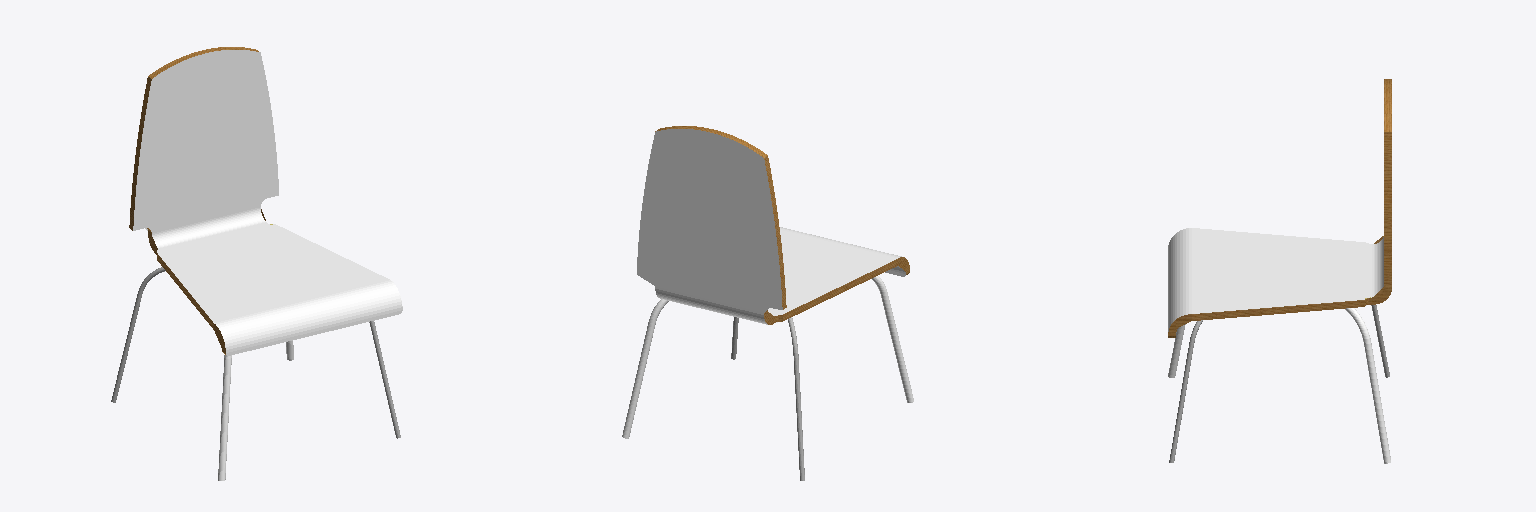
3 renders of one model, left to right at view 1: azimuth 30°, elevation 25°; view 2: azimuth 150°, elevation 25°; view 3: azimuth 270°, elevation 25°, orthographic.
Visible parts, largest first — view 1: Mesh3 White_chair1 Model, Mesh2 White_chair1 Model, Mesh1 White_chair1 Model; view 2: Mesh3 White_chair1 Model, Mesh1 White_chair1 Model, Mesh2 White_chair1 Model; view 3: Mesh3 White_chair1 Model, Mesh1 White_chair1 Model, Mesh2 White_chair1 Model.
Boxes of the visible parts, x1,y1,x2,y2 form: Mesh3 White_chair1 Model: [129, 47, 402, 355]; Mesh2 White_chair1 Model: [111, 267, 400, 438]; Mesh1 White_chair1 Model: [218, 341, 293, 480]; Mesh3 White_chair1 Model: [637, 126, 909, 324]; Mesh1 White_chair1 Model: [622, 276, 913, 438]; Mesh2 White_chair1 Model: [731, 317, 804, 480]; Mesh3 White_chair1 Model: [1168, 79, 1391, 337]; Mesh1 White_chair1 Model: [1168, 308, 1390, 463]; Mesh2 White_chair1 Model: [1169, 305, 1389, 462].
Bounding box in the file's own units: 0.5389 × 0.9221 × 0.5702.
Materials: 6 (1 with a texture image).